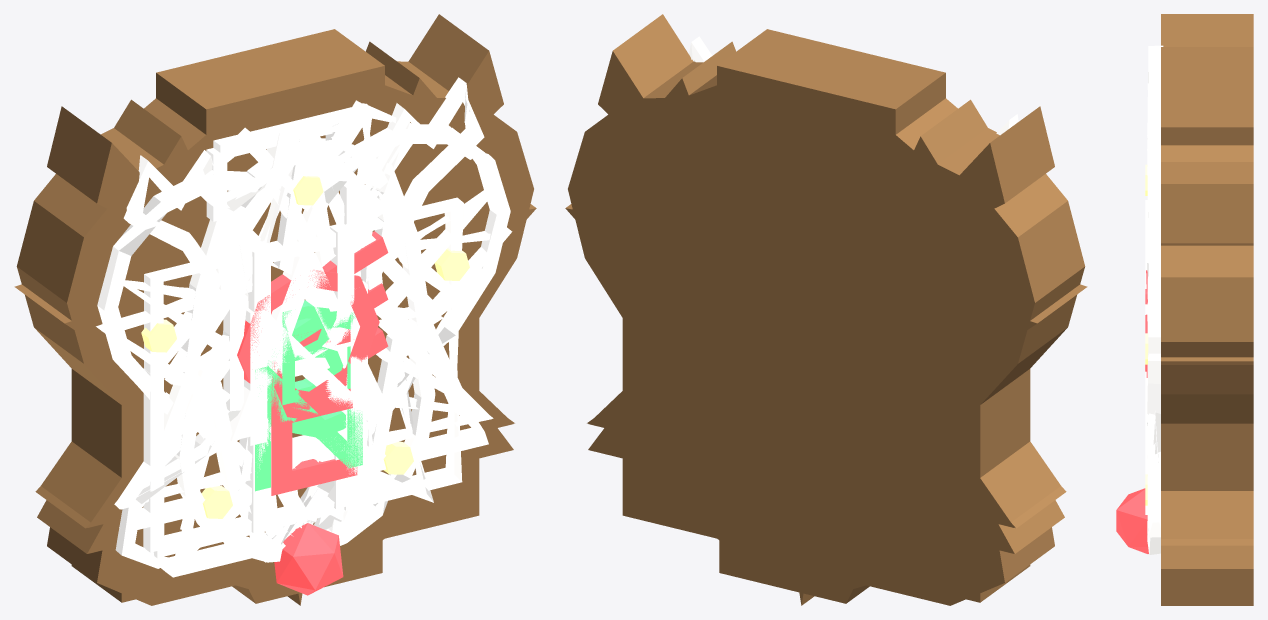
Rendered from Galletas_Formas.glb.
The picture shows the model from 3 angles, left to right: view 1: azimuth 30°, elevation 25°; view 2: azimuth 150°, elevation 25°; view 3: azimuth 270°, elevation 25°; orthographic projection. The views are drawn at different scales.
Parts seen in each view (by area): view 1: GalletaForma_9, GalletaForma_8, GalletaForma_6, GalletaForma_7, GalletaForma_1, GalletaForma_0, GalletaForma_2, GalletaForma_3, GalletaForma_5, GalletaForma_4; view 2: GalletaForma_2, GalletaForma_8, GalletaForma_9, GalletaForma_1, GalletaForma_3, GalletaForma_6, GalletaForma_0, GalletaForma_7, GalletaForma_4, GalletaForma_5; view 3: GalletaForma_9, GalletaForma_8, GalletaForma_7, GalletaForma_6, GalletaForma_1, GalletaForma_2, GalletaForma_0, GalletaForma_5, GalletaForma_4.
Boxes of the visible parts, x1=… form: GalletaForma_9: x1=16, y1=61, x2=533, y2=526; GalletaForma_8: x1=47, y1=14, x2=503, y2=603; GalletaForma_6: x1=47, y1=29, x2=384, y2=605; GalletaForma_7: x1=71, y1=75, x2=479, y2=602; GalletaForma_1: x1=37, y1=42, x2=513, y2=553; GalletaForma_0: x1=14, y1=87, x2=536, y2=560; GalletaForma_2: x1=41, y1=86, x2=513, y2=583; GalletaForma_3: x1=164, y1=110, x2=441, y2=591; GalletaForma_5: x1=35, y1=89, x2=514, y2=605; GalletaForma_4: x1=163, y1=155, x2=388, y2=587; GalletaForma_2: x1=588, y1=95, x2=1060, y2=583; GalletaForma_8: x1=598, y1=14, x2=1054, y2=603; GalletaForma_9: x1=568, y1=61, x2=1085, y2=454; GalletaForma_1: x1=588, y1=42, x2=1064, y2=574; GalletaForma_3: x1=664, y1=112, x2=945, y2=590; GalletaForma_6: x1=717, y1=29, x2=1054, y2=605; GalletaForma_0: x1=565, y1=88, x2=1087, y2=591; GalletaForma_7: x1=622, y1=75, x2=1030, y2=602; GalletaForma_4: x1=719, y1=144, x2=942, y2=584; GalletaForma_5: x1=587, y1=105, x2=1066, y2=605; GalletaForma_9: x1=1145, y1=204, x2=1253, y2=441; GalletaForma_8: x1=1116, y1=14, x2=1253, y2=553; GalletaForma_7: x1=1147, y1=89, x2=1253, y2=605; GalletaForma_6: x1=1145, y1=47, x2=1253, y2=288; GalletaForma_1: x1=1145, y1=76, x2=1253, y2=568; GalletaForma_2: x1=1147, y1=127, x2=1253, y2=538; GalletaForma_0: x1=1145, y1=164, x2=1253, y2=554; GalletaForma_5: x1=1147, y1=309, x2=1253, y2=545; GalletaForma_4: x1=1145, y1=270, x2=1147, y2=514.
Size of the model in its own units: 0.3804 by 0.4 by 0.1038.
